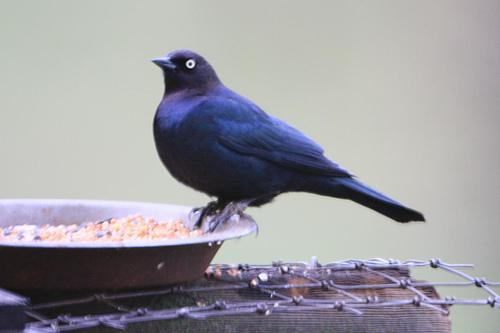009.Brewer_Blackbird: (151, 49, 427, 235)
